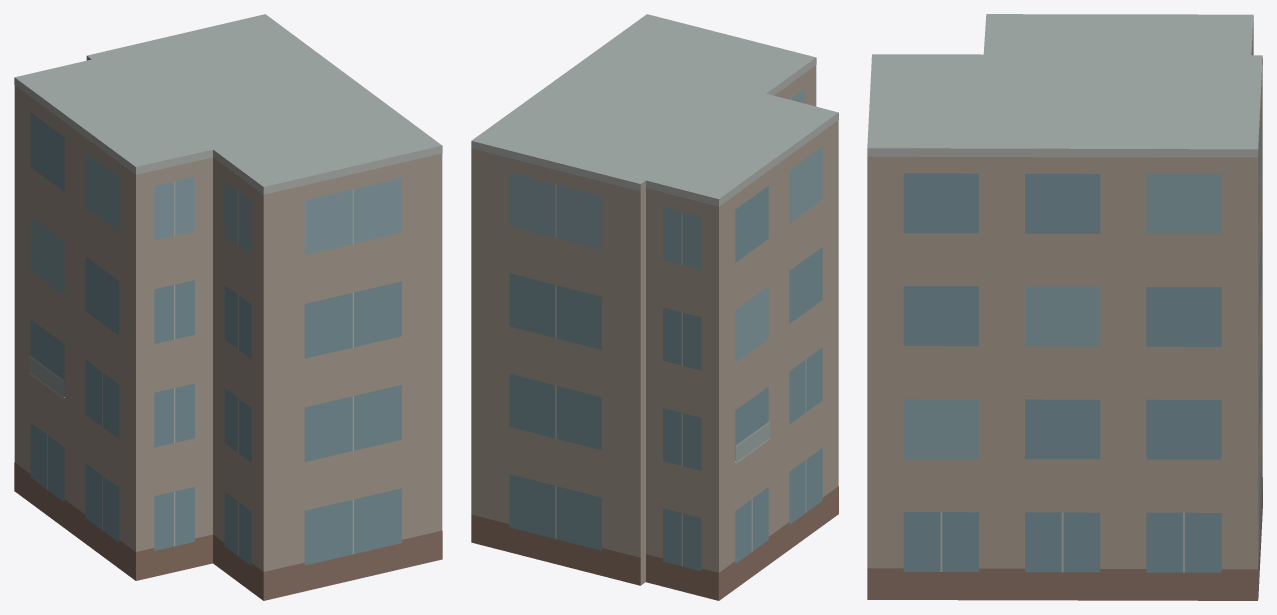
Rendered from survey-upis-32510331.glb.
3 renders of one model, left to right at view 1: azimuth 30°, elevation 25°; view 2: azimuth 150°, elevation 25°; view 3: azimuth 270°, elevation 25°, orthographic. The views are drawn at different scales.
Visible parts, largest first — view 1: survey-upis-32510331.tmp; view 2: survey-upis-32510331.tmp; view 3: survey-upis-32510331.tmp.
Part boxes in pixels (x1,y1,x2,y2): survey-upis-32510331.tmp: (14,14,442,600); survey-upis-32510331.tmp: (471,14,838,600); survey-upis-32510331.tmp: (867,14,1262,600).
Bounding box in the file's own units: 8.38 × 13 × 10.33.
